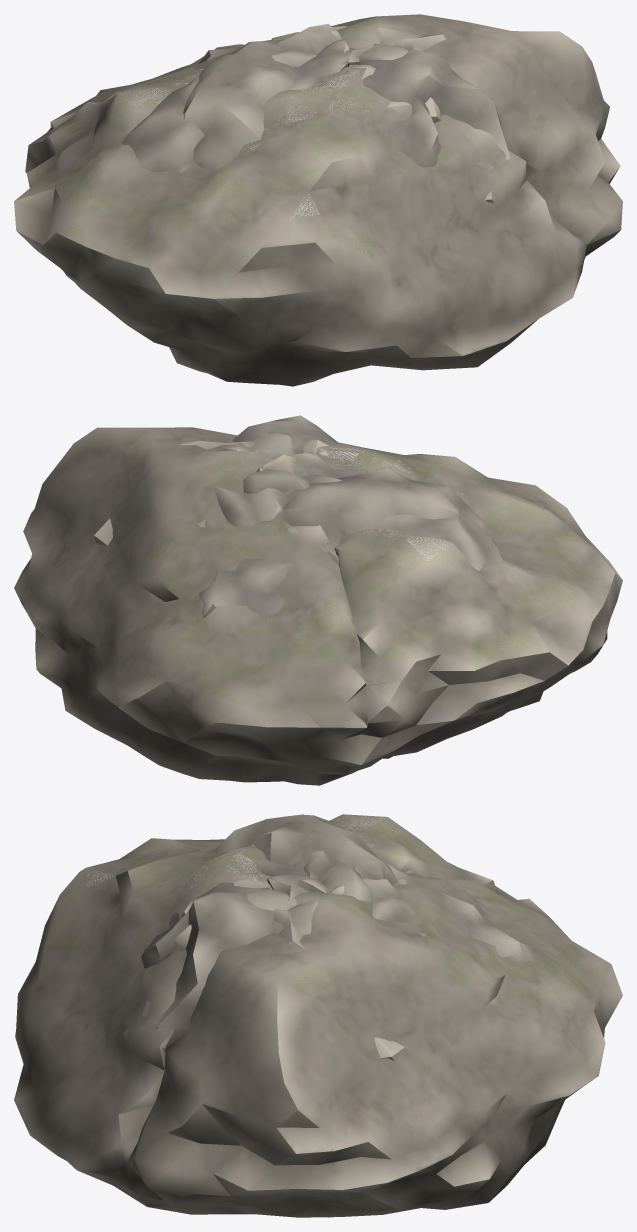
The model's file is env-rocks.hq.glb.
3 views of the same model, one above another, from view 1: azimuth 30°, elevation 25°; view 2: azimuth 150°, elevation 25°; view 3: azimuth 270°, elevation 25° (orthographic). The views are drawn at different scales.
Parts seen in each view (by area): view 1: stone-c, stone-a, stone-moss-c, stone-e, stone-d, stone-f, stone-snow-c; view 2: stone-c, stone-moss-c, stone-e, stone-a, stone-d; view 3: stone-c, stone-a, stone-moss-c, stone-e, stone-d, stone-f.
Boxes of the visible parts, x1,y1,x2,y2 form: stone-c: (14, 14, 622, 386); stone-a: (121, 30, 510, 202); stone-moss-c: (17, 15, 585, 271); stone-e: (183, 26, 411, 169); stone-d: (271, 23, 339, 66); stone-f: (199, 27, 441, 123); stone-snow-c: (119, 72, 368, 219); stone-c: (14, 427, 622, 785); stone-moss-c: (124, 428, 607, 784); stone-e: (214, 433, 483, 537); stone-a: (94, 415, 503, 617); stone-d: (243, 469, 341, 493); stone-c: (14, 814, 622, 1217); stone-a: (123, 815, 524, 1060); stone-moss-c: (46, 815, 609, 1210); stone-e: (181, 814, 415, 922); stone-d: (304, 851, 372, 902); stone-f: (175, 868, 415, 950).
Size of the model in its own units: 2.42 by 1 by 2.07.
1 material, 1 textured.
